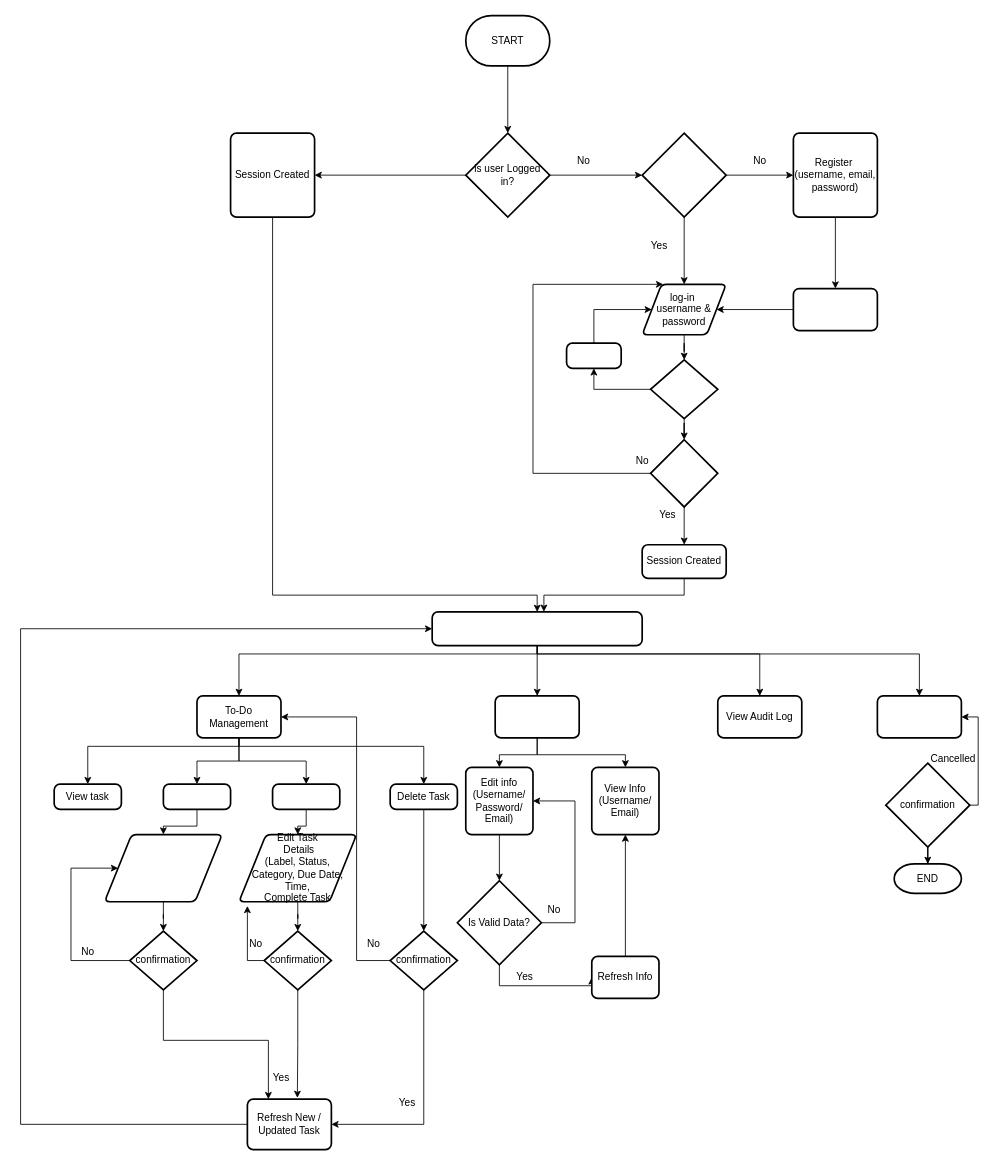
Some shapes in this 1001 by 1164 pixel diagram are drawn without their labels. Each missing label, with the box of its shape:
Account Setting: (494, 695, 580, 738)
Create Task: (162, 783, 231, 810)
Email Confirmation: (792, 287, 878, 331)
Input Task Details (Label, Status, Category, Due Date, Time, Complete Task: (103, 833, 223, 902)
Is credential valid?: (649, 438, 718, 507)
Is login Attempt exceed?: (649, 359, 718, 419)
Logout: (876, 695, 962, 738)
PERSONAL TO-DO LIST (DASHBOARD: (431, 611, 643, 646)
Try again later: (565, 342, 622, 369)
Update Task: (271, 783, 340, 810)
user have account?: (641, 132, 727, 218)
